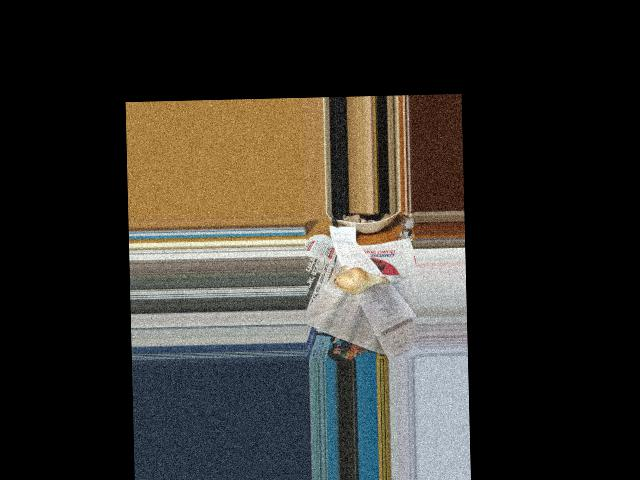onion: (333, 265, 379, 293)
